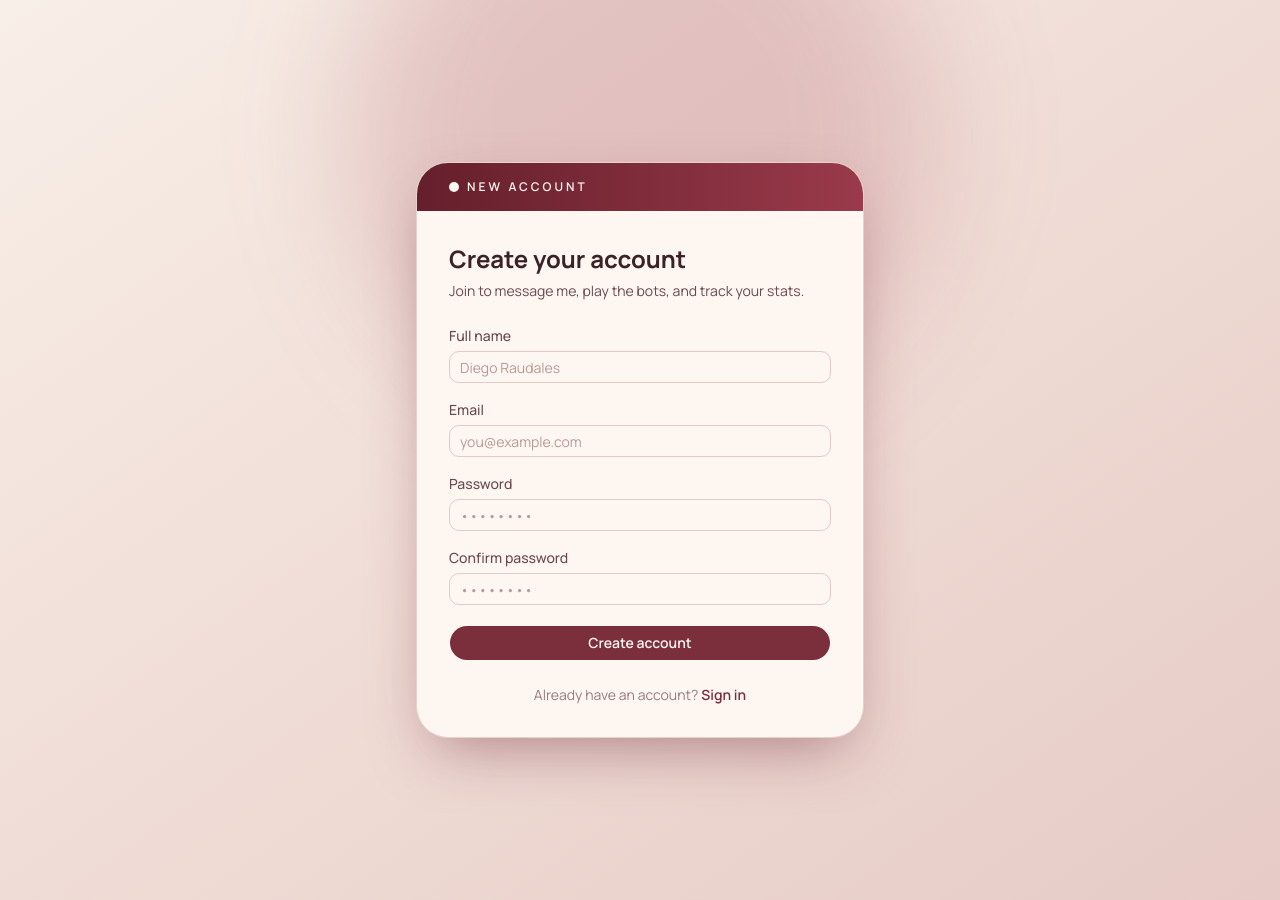
it: RegisterPage › does not submit when the confirmation password differs
Step 1. Type "  Diego Raudales  " into the field labelled "Full name" → point(640, 367), box [449,351,831,383]
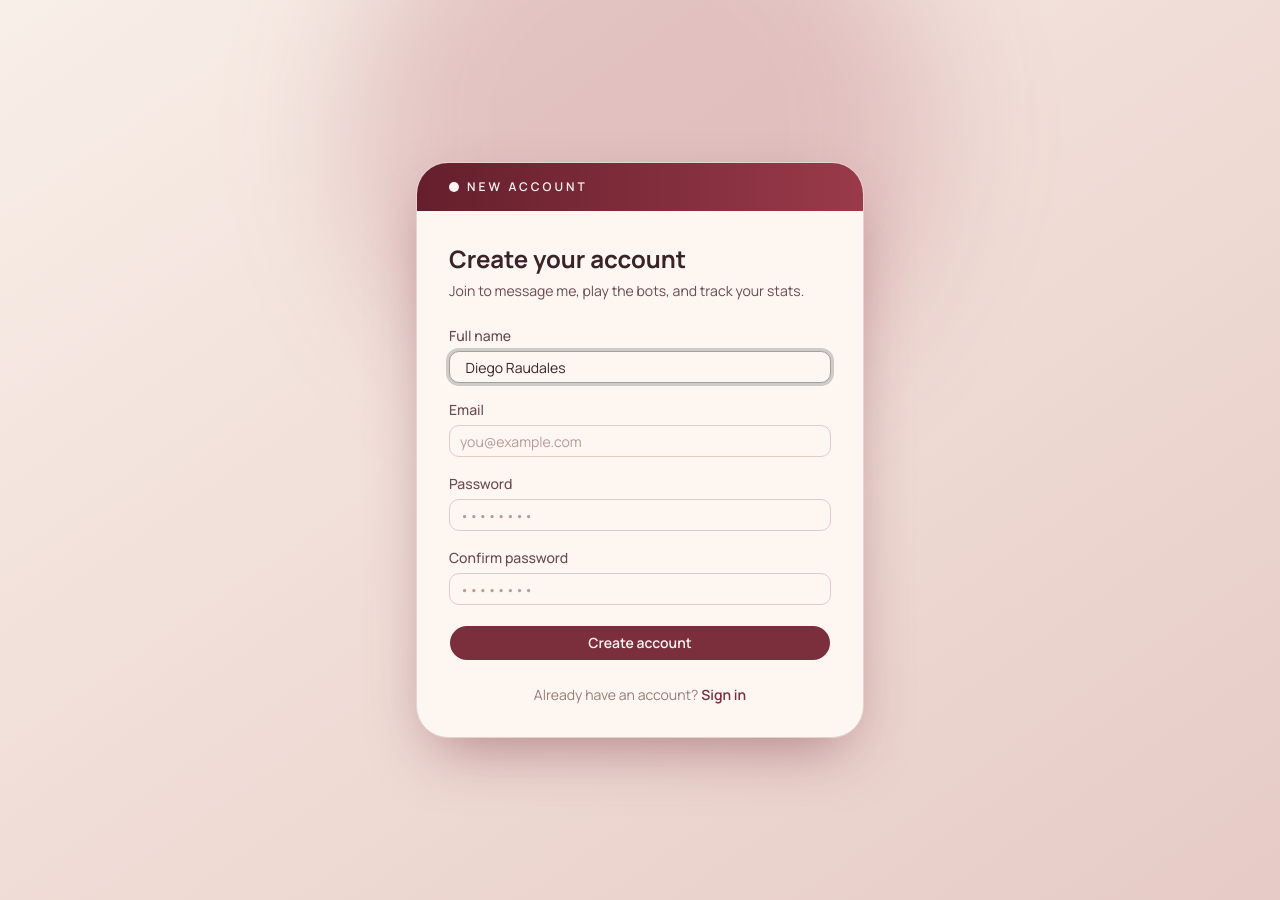
Step 2. Type "  Diego@Example.com  " into the field labelled "Email" → point(640, 441), box [449,425,831,457]
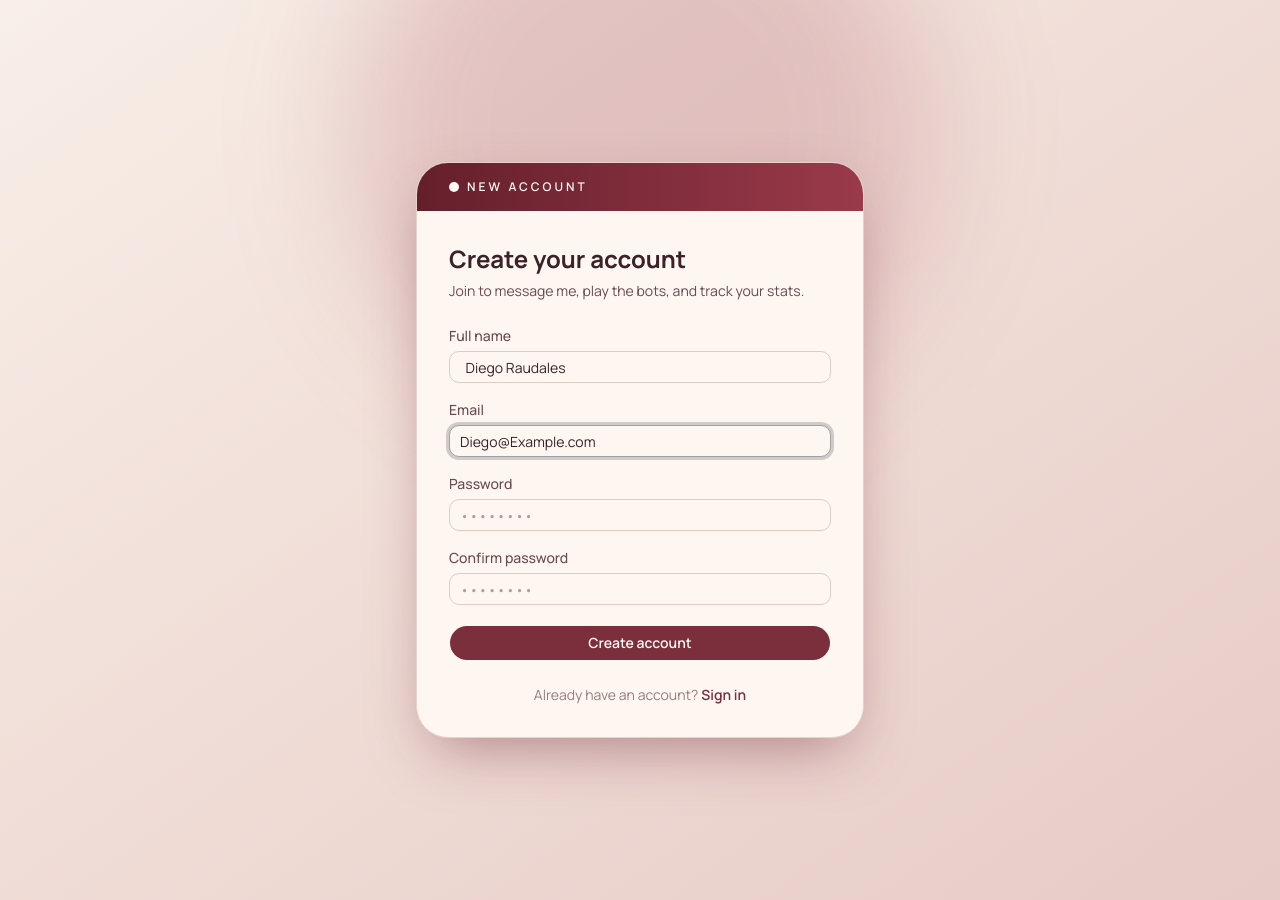
Step 3. Type "password123" into the password field labelled "Password" → point(640, 515), box [449,499,831,531]
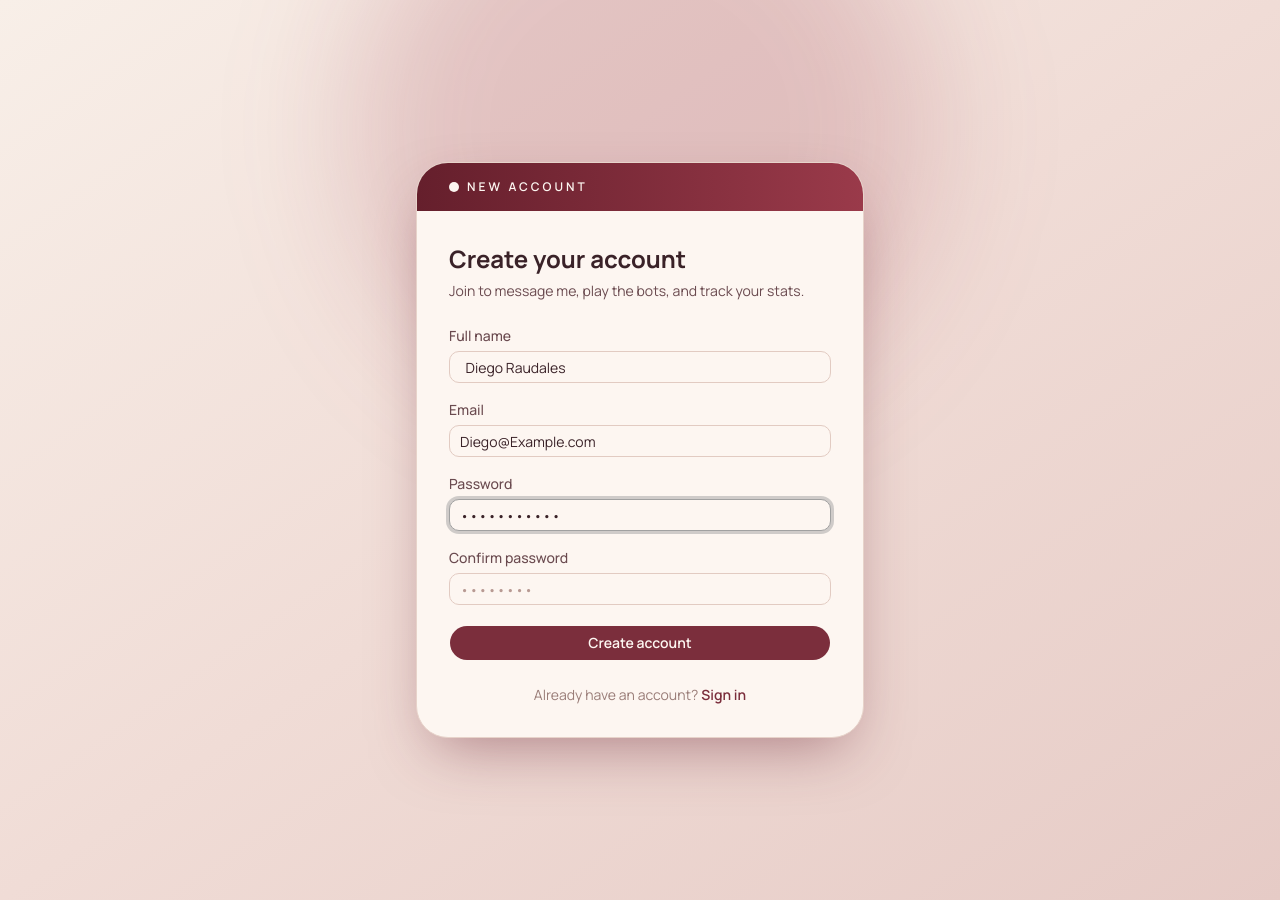
Step 4. Type "different123" into the password field labelled "Confirm password" → point(640, 589), box [449,573,831,605]
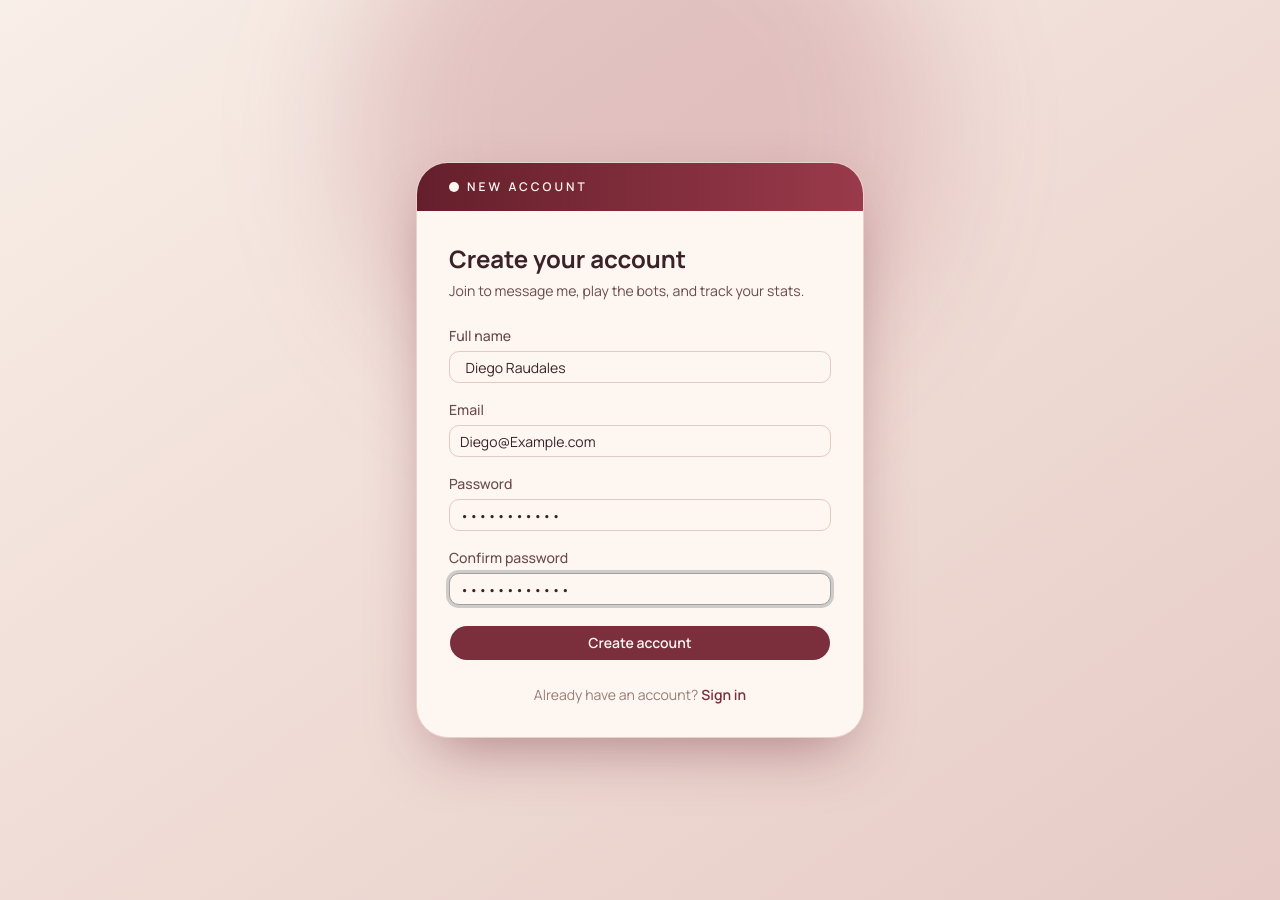
Step 5. Click the button "Create account" → point(640, 643), box [449,625,831,661]
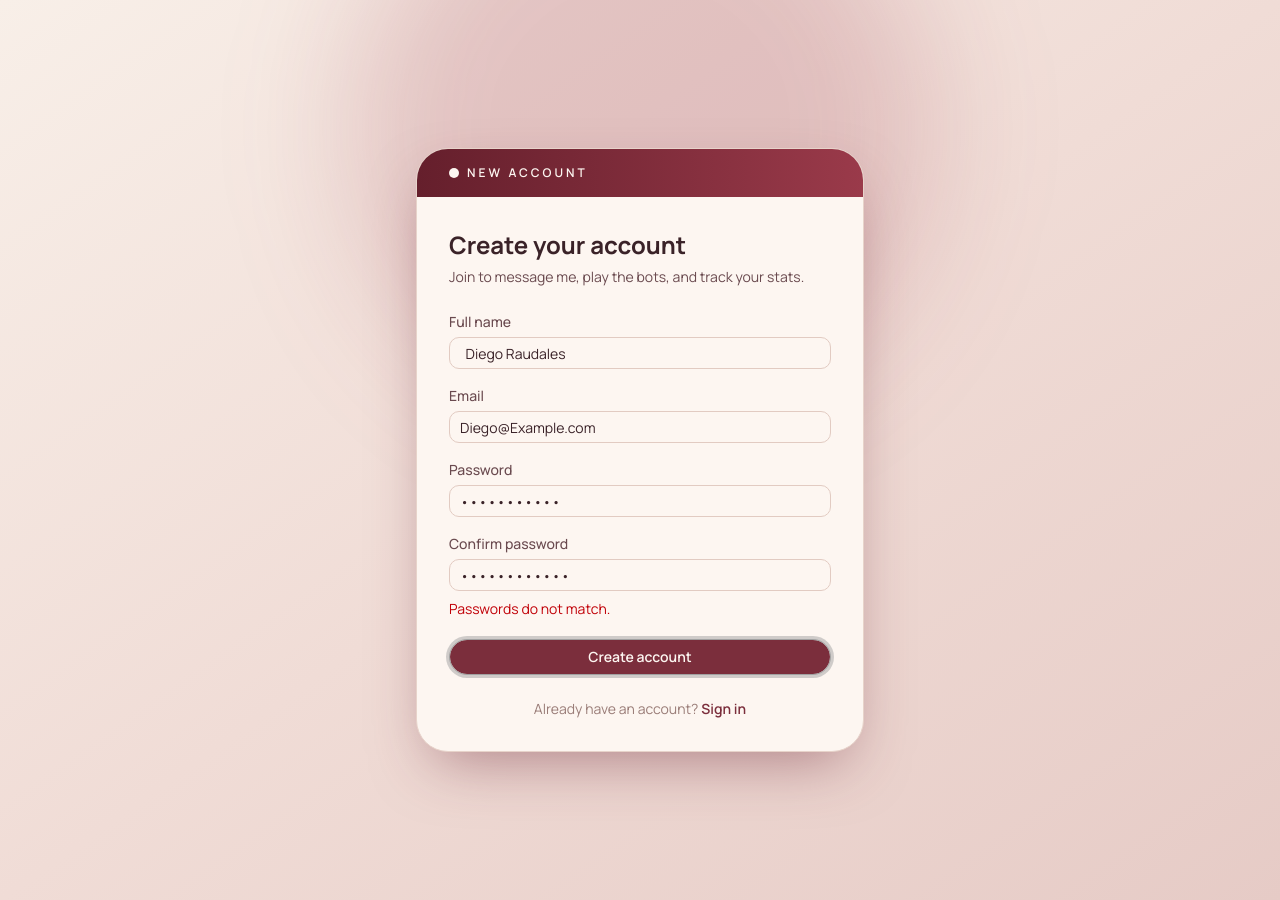
Check: the text "Passwords do not match." is shown, box [449,599,610,618]
